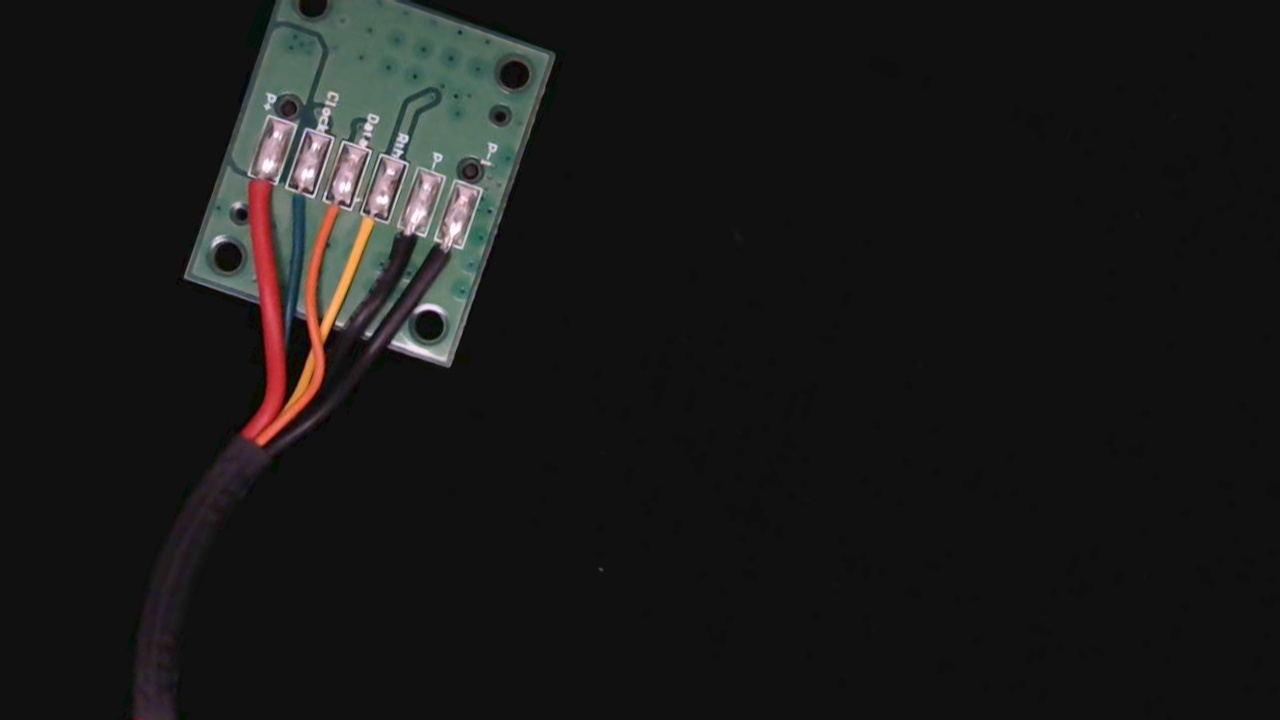Black: (381, 213, 428, 277)
Black1: (416, 226, 466, 290)
Green: (274, 174, 320, 234)
Orange: (308, 186, 353, 250)
Red: (229, 162, 281, 228)
Yellow: (343, 198, 390, 264)
